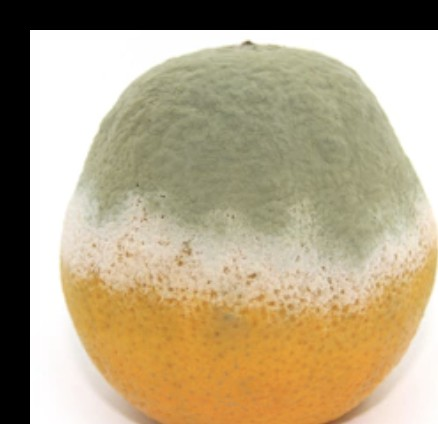rotten_orange: (60, 42, 438, 424)
